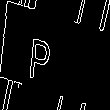P_N: (42, 27, 68, 83)
